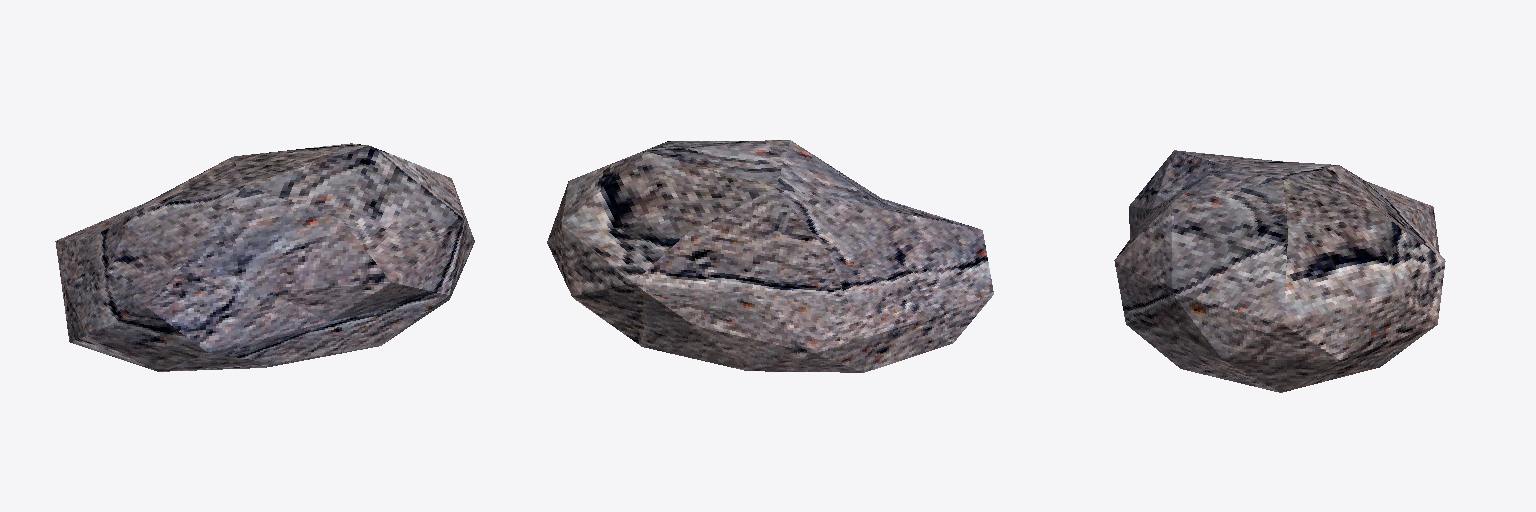
The picture shows the model from 3 angles: view 1: azimuth 30°, elevation 25°; view 2: azimuth 150°, elevation 25°; view 3: azimuth 270°, elevation 25°; orthographic projection.
Visible parts, largest first — view 1: Icosphere; view 2: Icosphere; view 3: Icosphere.
Boxes of the visible parts, box(x1,y1,x2,y2) form: Icosphere: box(55, 143, 474, 371); Icosphere: box(547, 140, 993, 372); Icosphere: box(1114, 150, 1445, 392).
Bounding box in the file's own units: 2.42 × 0.9241 × 1.76.
Materials: 1 (1 with a texture image).